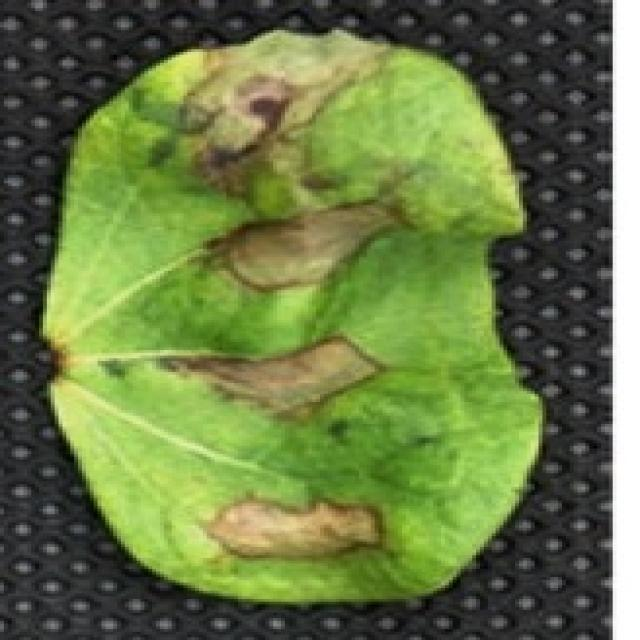Fusarium Wilt: (164, 343, 405, 562), (192, 66, 409, 296)
